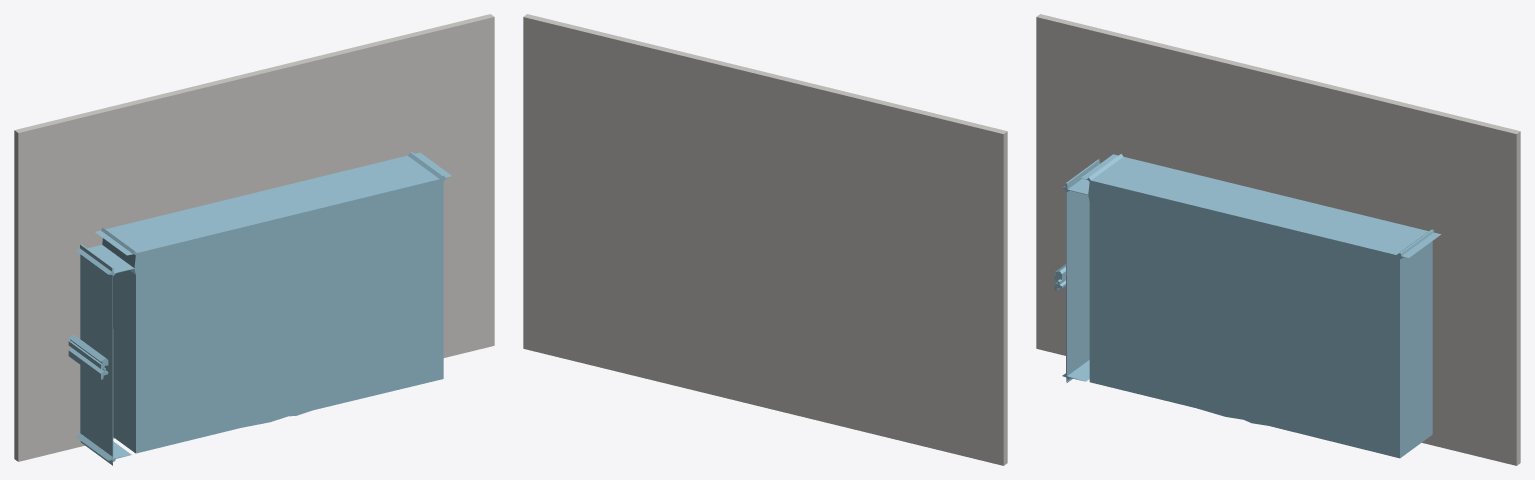
3 renders of one model, left to right at view 1: azimuth 30°, elevation 25°; view 2: azimuth 150°, elevation 25°; view 3: azimuth 330°, elevation 25°, orthographic.
Parts seen in each view (by area): view 1: world; view 2: world; view 3: world.
Part boxes in pixels (x1,y1,x2,y2): world: (14,14,494,465); world: (523,14,1007,465); world: (1036,14,1520,465).
Bounding box in the file's own units: 10.23 × 6.75 × 1.35.
